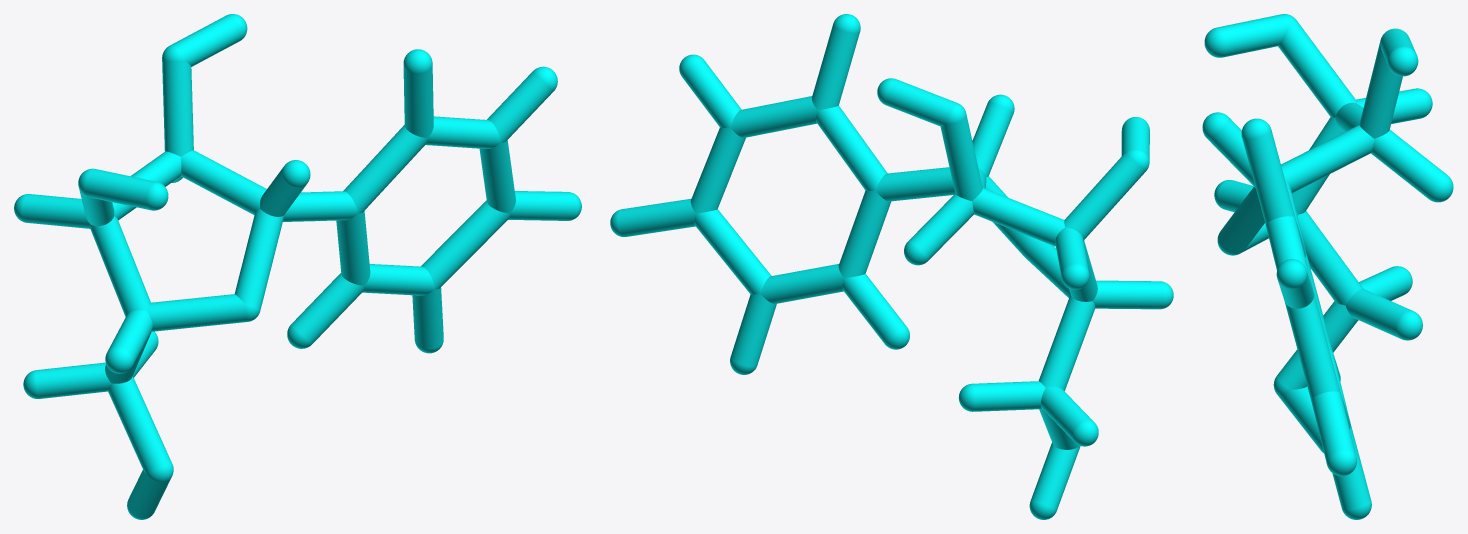
File: uridine.glb
The picture shows the model from 3 angles, left to right: view 1: azimuth 30°, elevation 25°; view 2: azimuth 150°, elevation 25°; view 3: azimuth 270°, elevation 25°; orthographic projection. The views are drawn at different scales.
Visible parts, largest first — view 1: bonds, atoms; view 2: bonds, atoms; view 3: bonds, atoms.
Boxes of the visible parts, <box> form: bonds: <box>22,15,577,517</box>; atoms: <box>14,14,581,519</box>; bonds: <box>618,25,1163,509</box>; atoms: <box>610,14,1173,519</box>; bonds: <box>1208,14,1446,509</box>; atoms: <box>1202,14,1453,519</box>.
Bounding box in the file's own units: 8.38 × 6.8 × 3.28.
